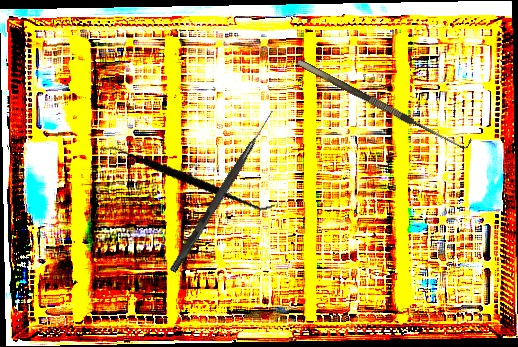Hook Surgical: (296, 49, 473, 155), (169, 107, 276, 275)
Spatula Surgical: (99, 115, 276, 239)
